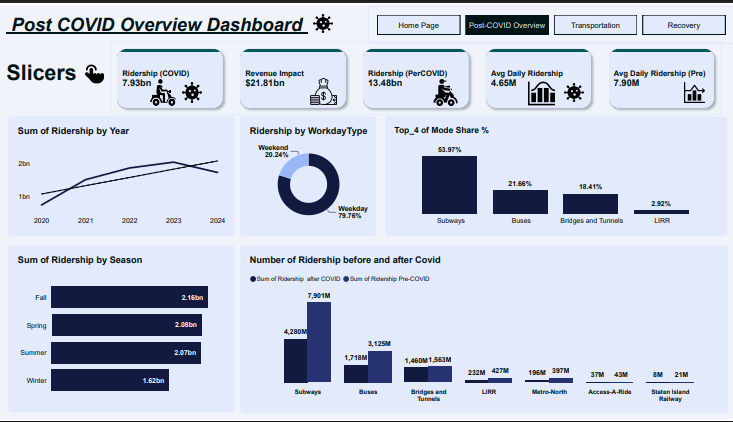

The dashboard page shown, as its layout file describes it:
{"tool":"powerbi","page":{"name":"Post-COVID Overview","canvas":[1280,720],"ordinal":1},"visuals":[{"type":"textbox","box":[12.8,95,131.8,46.8],"z":0},{"type":"textbox","box":[12.8,14.2,525.8,48.2],"z":2000},{"type":"cardVisual","fields":{"Data":["total.All ridership","total.Revenue Impact","total.total_per","total.Avg Daily Ridership","total.Avg Daily Ridership (Pre-COVID)"]},"box":[194.2,62.4,1064.4,127.6],"z":3000},{"type":"image","box":[127.6,85,76.5,66.6],"z":4000},{"type":"image","box":[527.2,0,73.7,62.4],"z":5000},{"type":"image","box":[249.4,113.4,73.7,76.5],"z":6000},{"type":"image","box":[299.1,119.1,75.1,63.8],"z":7000},{"type":"image","box":[527.2,107.7,75.1,82.2],"z":8000},{"type":"image","box":[739.8,110.6,75.1,79.4],"z":9000},{"type":"image","box":[907.1,110.6,75.1,82.2],"z":10000},{"type":"image","box":[1173.5,119.1,73.7,65.2],"z":11000},{"type":"image","box":[963.8,120.5,75.1,62.4],"z":12000},{"type":"lineChart","title":"Sum of Ridership  by Year","fields":{"Category":["Calendar.Date.Variation.Date Hierarchy.Year"],"Y":["Sum(MTA (2).Total Estimated)"]},"box":[17,192.8,392.6,206.9],"z":13000},{"type":"clusteredBarChart","title":"Sum of Ridership  by Season","fields":{"Y":["Sum(MTA (2).Total Estimated)"],"Category":["Calendar.Season"]},"box":[17,418.1,392.6,289.1],"z":14000},{"type":"donutChart","title":"Ridership by WorkdayType","fields":{"Y":["Sum(MTA (2).Total Estimated)"],"Category":["Calendar.WorkdayType"]},"box":[420.9,192.8,235.3,206.9],"z":15000},{"type":"clusteredColumnChart","title":"Number of Ridership  before and after Covid","fields":{"Y":["Sum(MTA (2).Total Estimated)","Sum(MTA (2).Pre-COVID Estimated)"],"Category":["MTA (2).Means of transportation"]},"box":[420.9,418.1,847.6,290.6],"z":16000},{"type":"columnChart","title":"Top_4 of Mode Share %","fields":{"Y":["total.Mode Share %"],"Category":["MTA (2).Means of transportation"]},"box":[673.2,192.8,595.3,206.9],"z":17000},{"type":"pageNavigator","box":[642.7,0,637.3,65.9],"z":19000}]}

Visuals, with their boxes in screenshot pixels (x1, y1, x2, y2), scaled from the page's 1280x720 canvas onto the 733x422 screenshot:
textbox: box=[7, 56, 83, 83]
textbox: box=[7, 8, 308, 37]
cardVisual - total.All ridership x total.Revenue Impact: box=[111, 37, 721, 111]
image: box=[73, 50, 117, 89]
image: box=[302, 0, 344, 37]
image: box=[143, 66, 185, 111]
image: box=[171, 70, 214, 107]
image: box=[302, 63, 345, 111]
image: box=[424, 65, 467, 111]
image: box=[519, 65, 562, 113]
image: box=[672, 70, 714, 108]
image: box=[552, 71, 595, 107]
"Sum of Ridership  by Year" lineChart: box=[10, 113, 235, 234]
"Sum of Ridership  by Season" clusteredBarChart: box=[10, 245, 235, 414]
"Ridership by WorkdayType" donutChart: box=[241, 113, 376, 234]
"Number of Ridership  before and after Covid" clusteredColumnChart: box=[241, 245, 726, 415]
"Top_4 of Mode Share %" columnChart: box=[386, 113, 726, 234]
pageNavigator: box=[368, 0, 732, 39]
